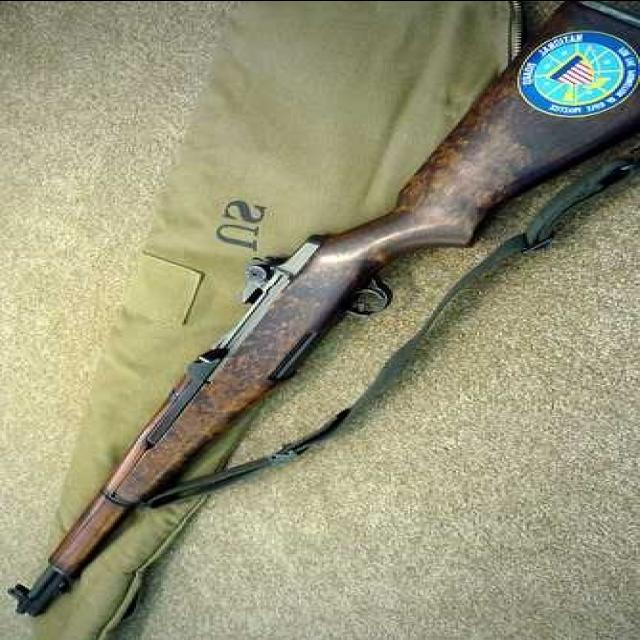heavyweapon: (17, 1, 640, 631)
